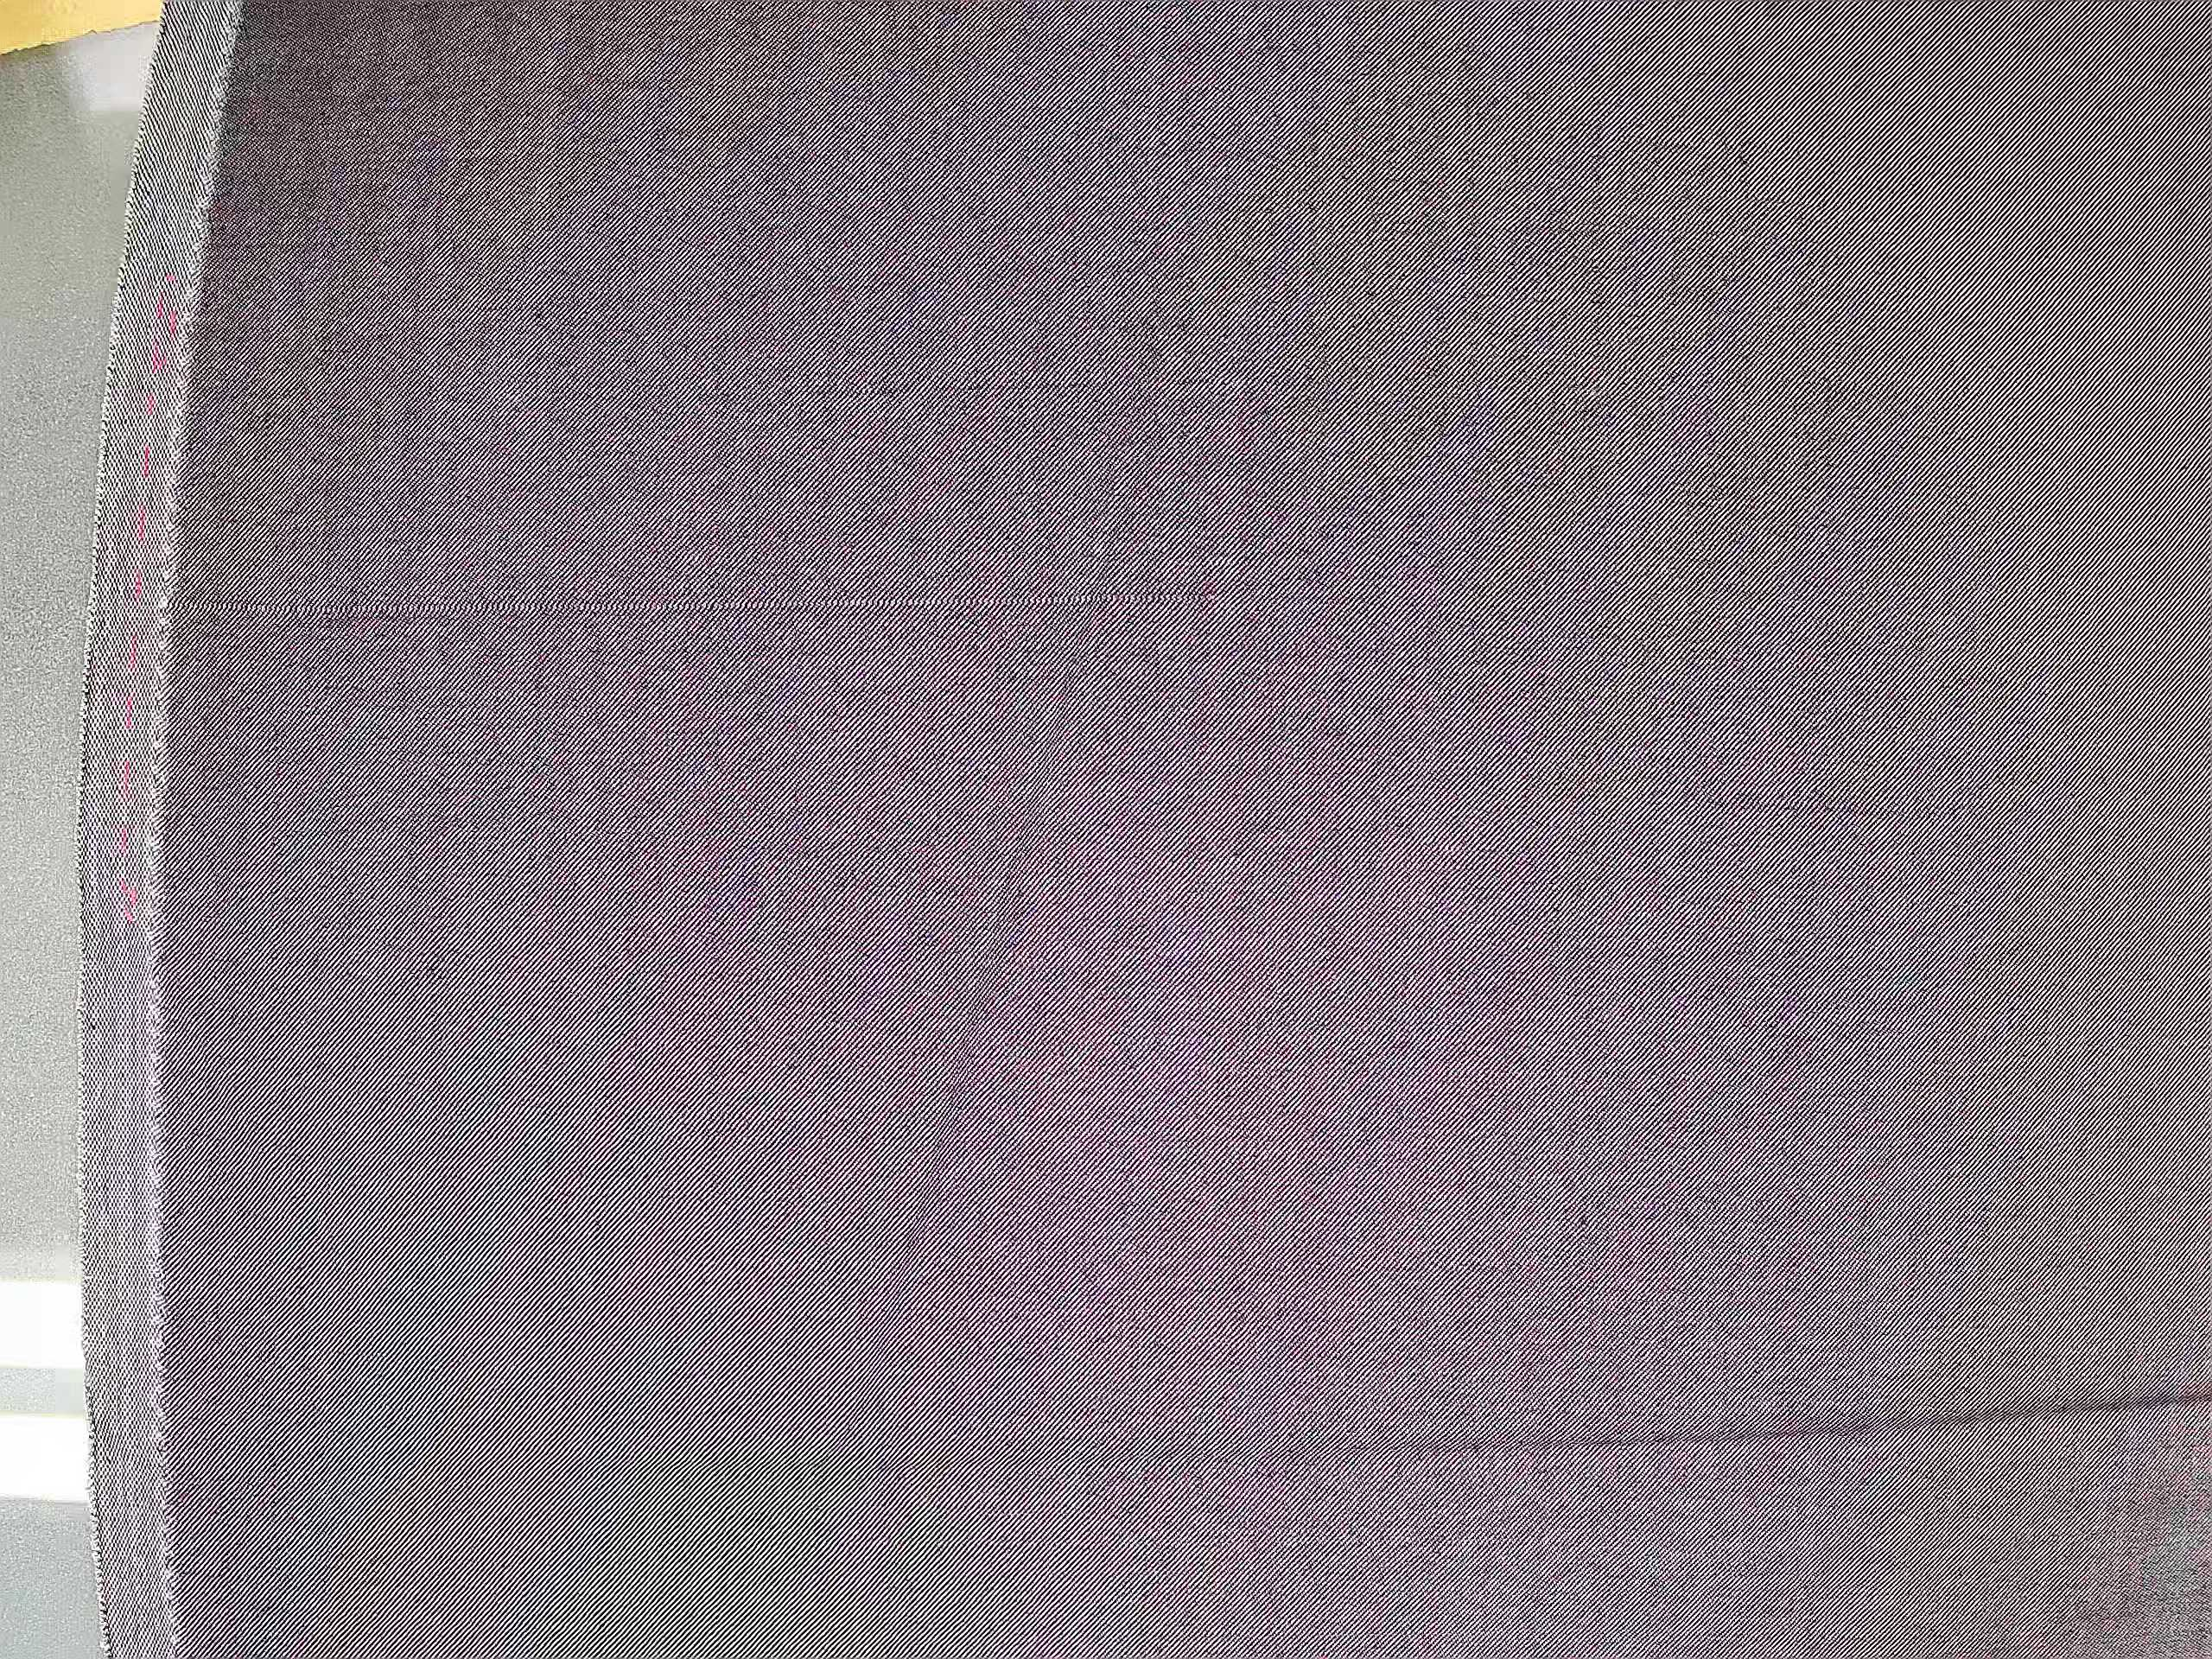thin-spinning: (183, 572, 1271, 636)
